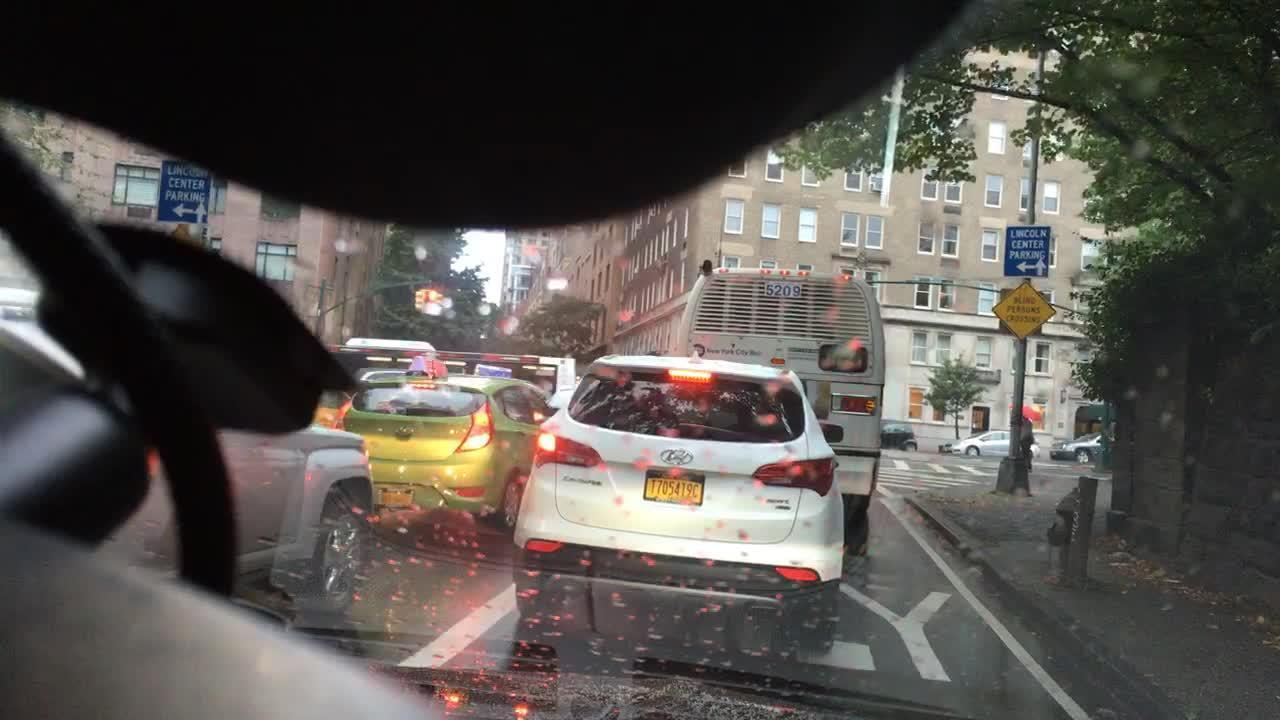Hyundai: (649, 439, 701, 473)
